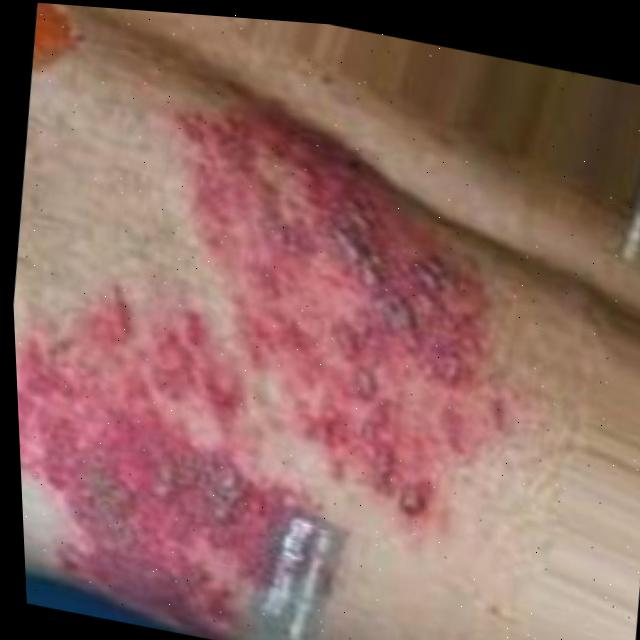Shingles: (3, 77, 519, 640)
